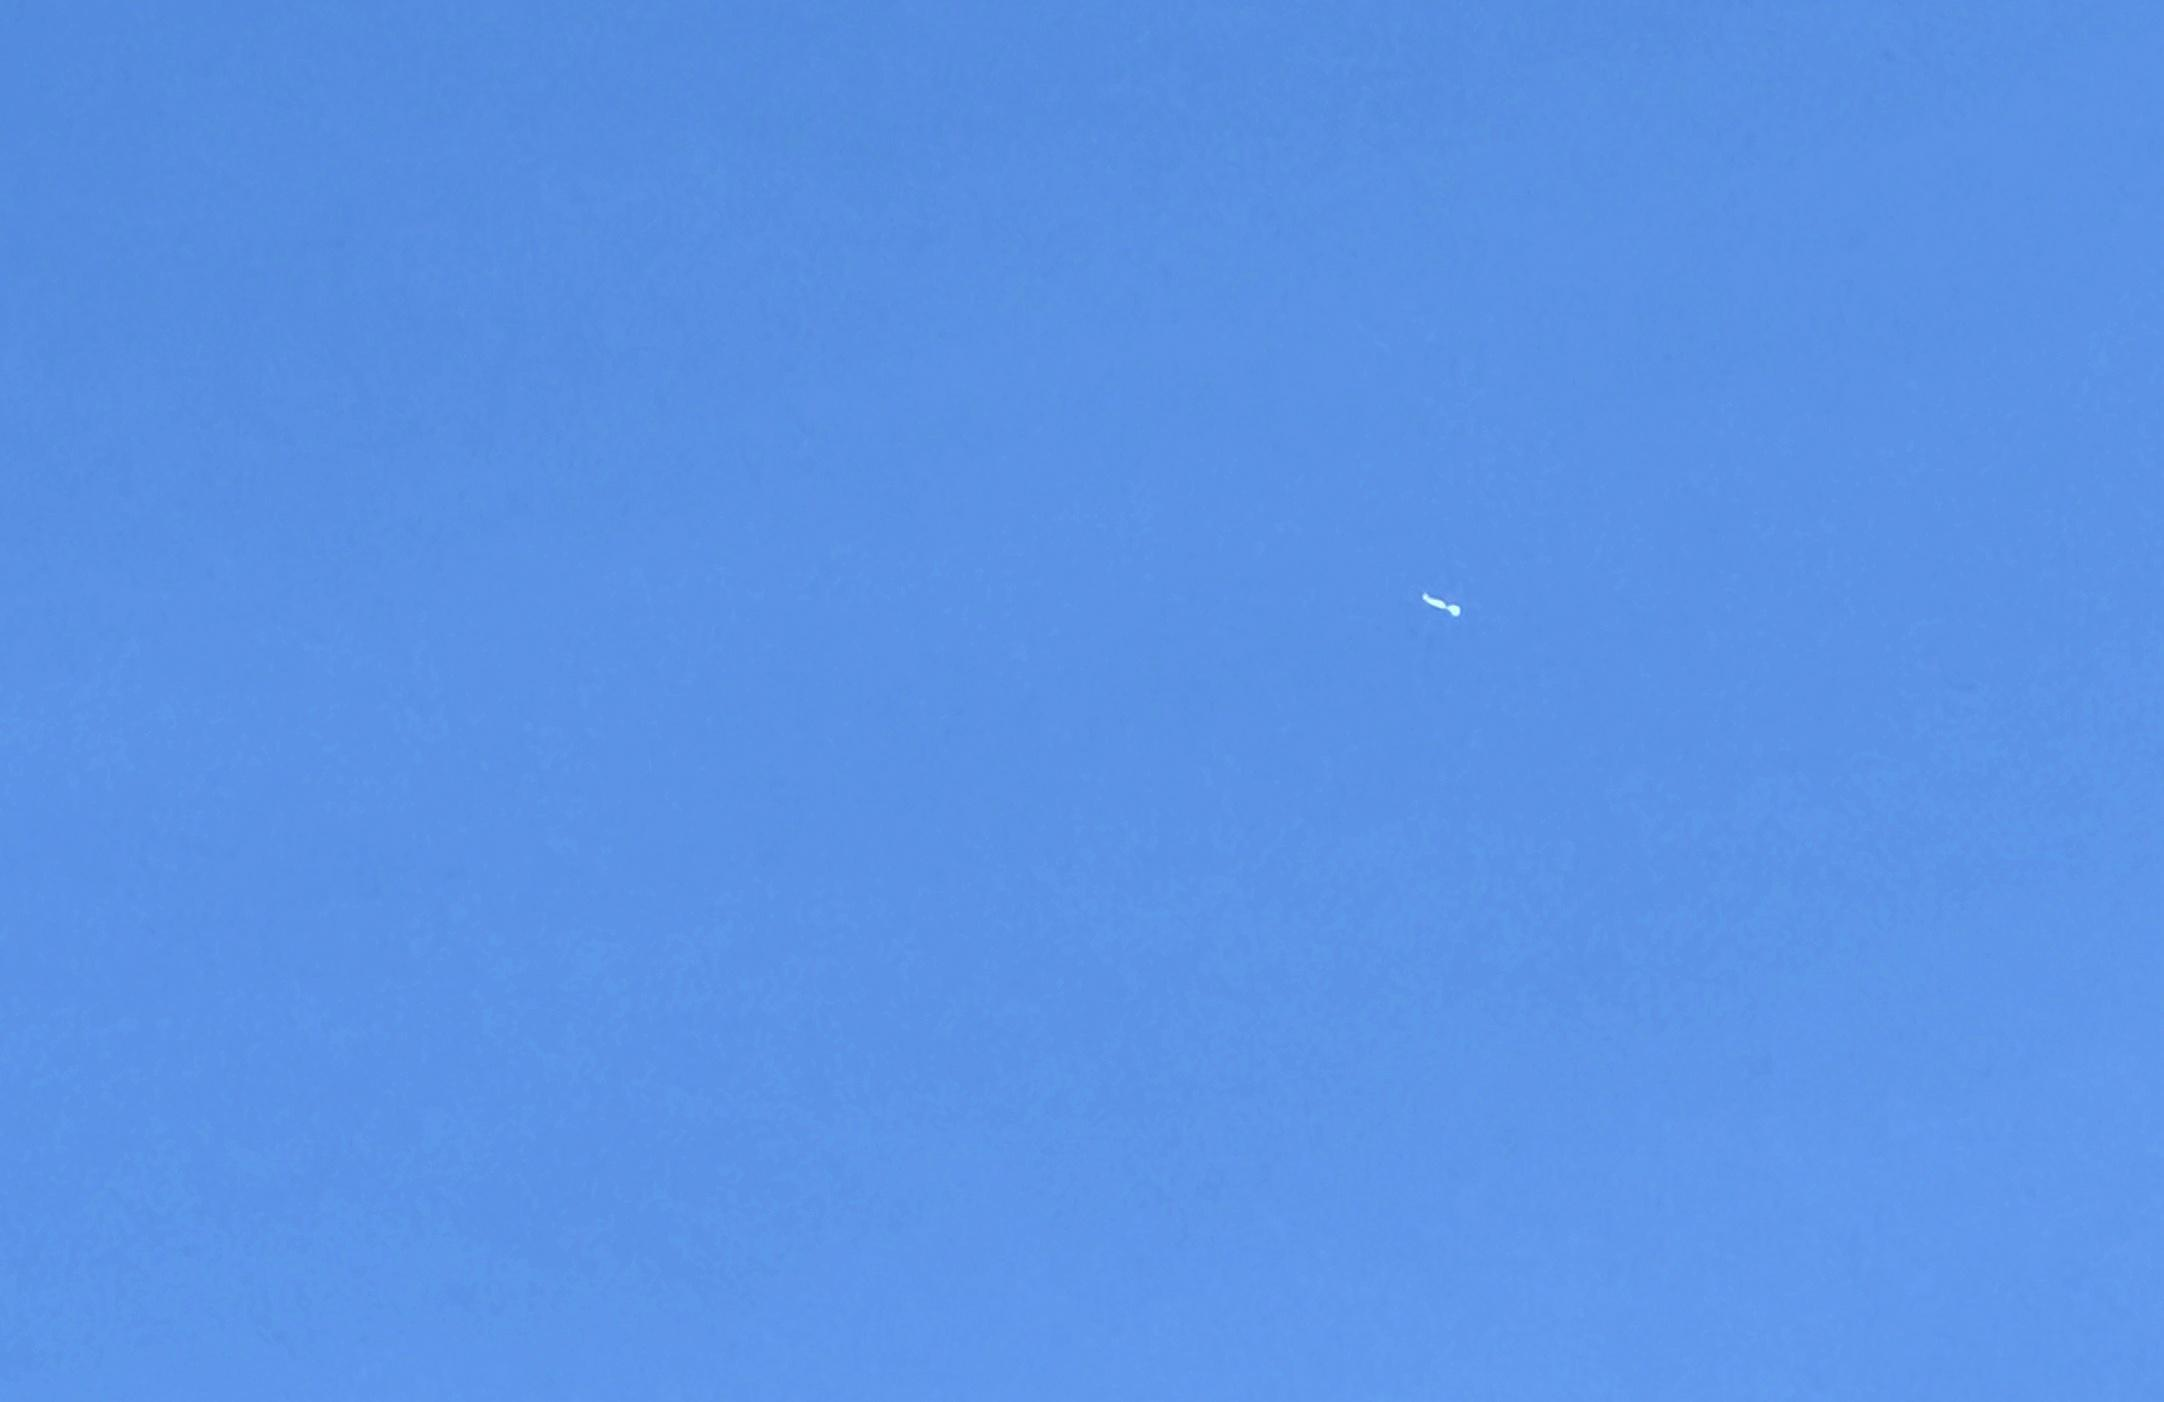Plane: (1377, 558, 1470, 636)
